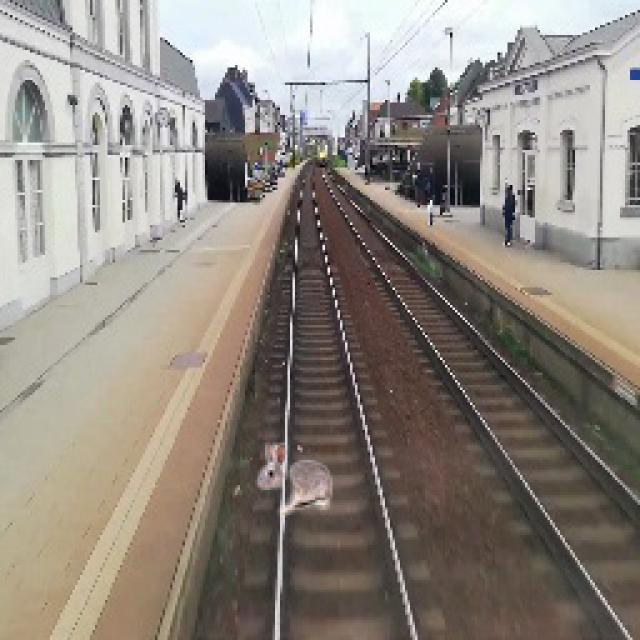rail: (220, 167, 454, 640)
